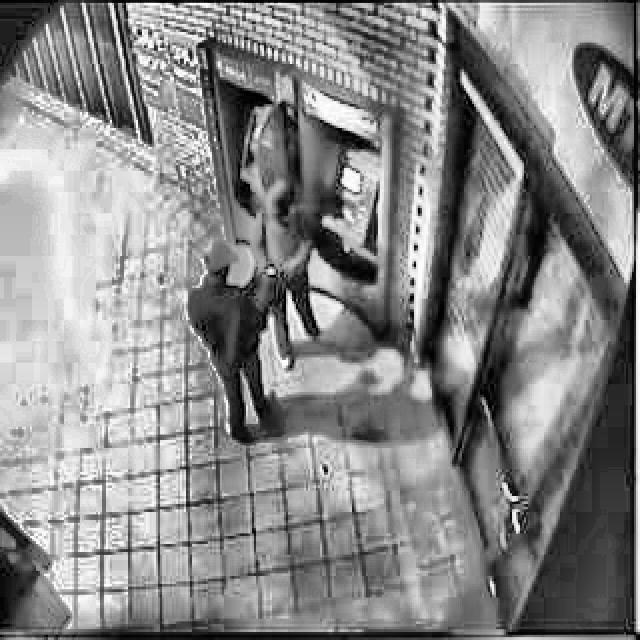burglary: (184, 99, 382, 446)
